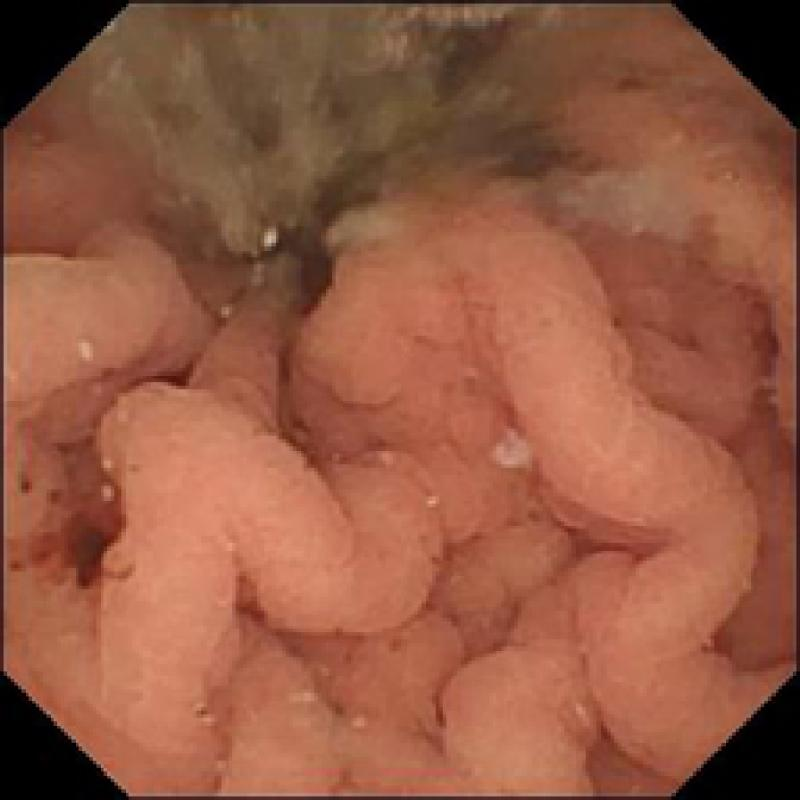bleeding: (36, 497, 125, 582)
